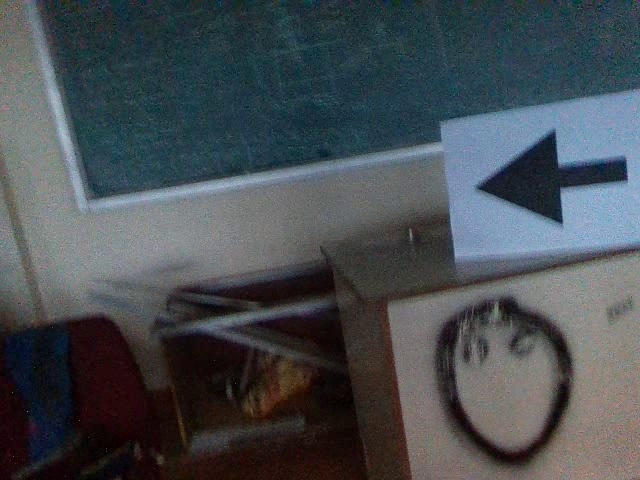Left: (466, 125, 631, 226)
